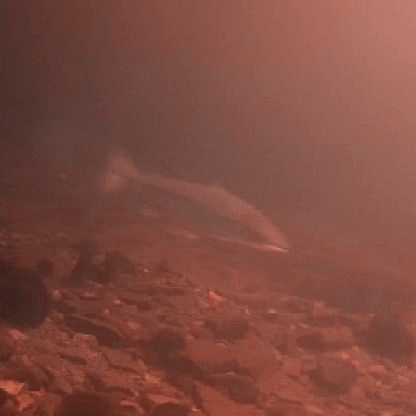salmon: (90, 140, 291, 258)
